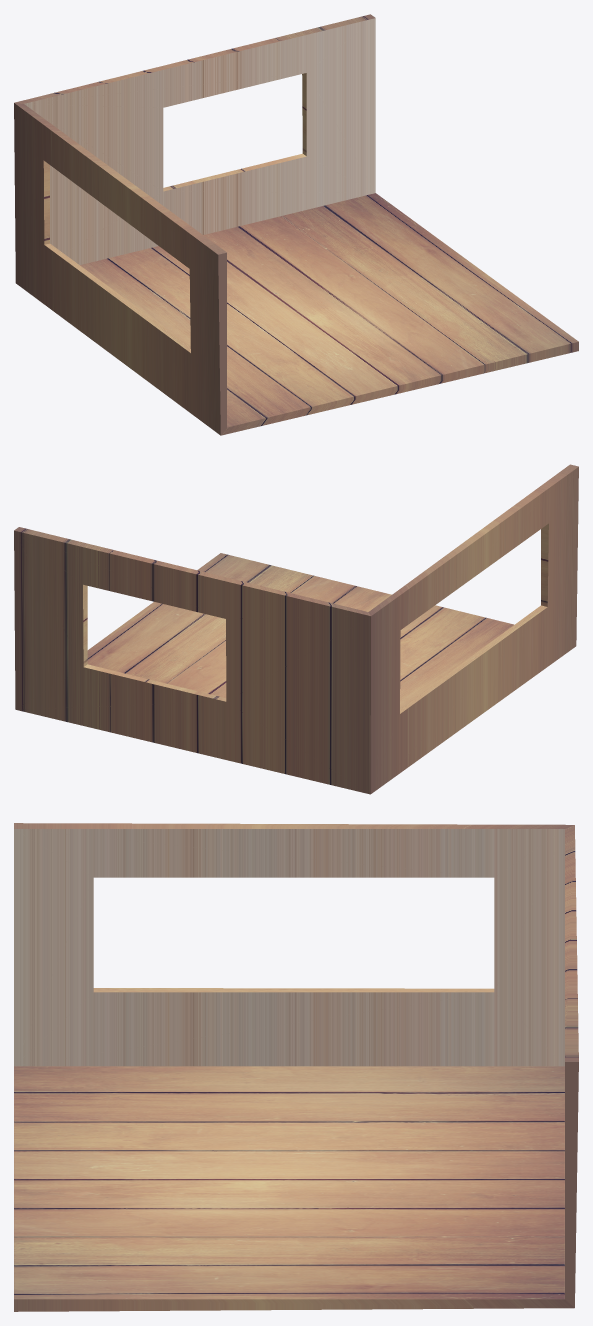
File: room2.fbx
3 views of the same model, one above another, from view 1: azimuth 30°, elevation 25°; view 2: azimuth 150°, elevation 25°; view 3: azimuth 270°, elevation 25° (orthographic). The views are drawn at different scales.
Parts seen in each view (by area): view 1: Plane; view 2: Plane; view 3: Plane.
Part boxes in pixels (x1=…): Plane: x1=14, y1=14, x2=578, y2=435; Plane: x1=14, y1=464, x2=578, y2=794; Plane: x1=14, y1=823, x2=578, y2=1311.
Size of the model in its own units: 1228 by 599 by 1228.
